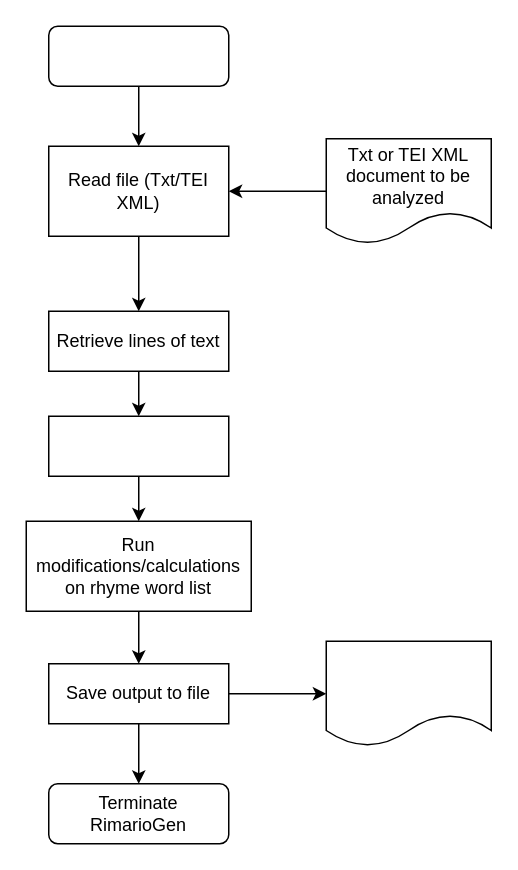
This 518x870 diagram has some shape labels left out. Each missing label, with the centre of its shape:
"Retrieve rhyme words of text" belongs at point (138, 445).
"Start RimarioGen" belongs at point (138, 55).
"Txt/Csv/Png file which results are written to" belongs at point (408, 693).
